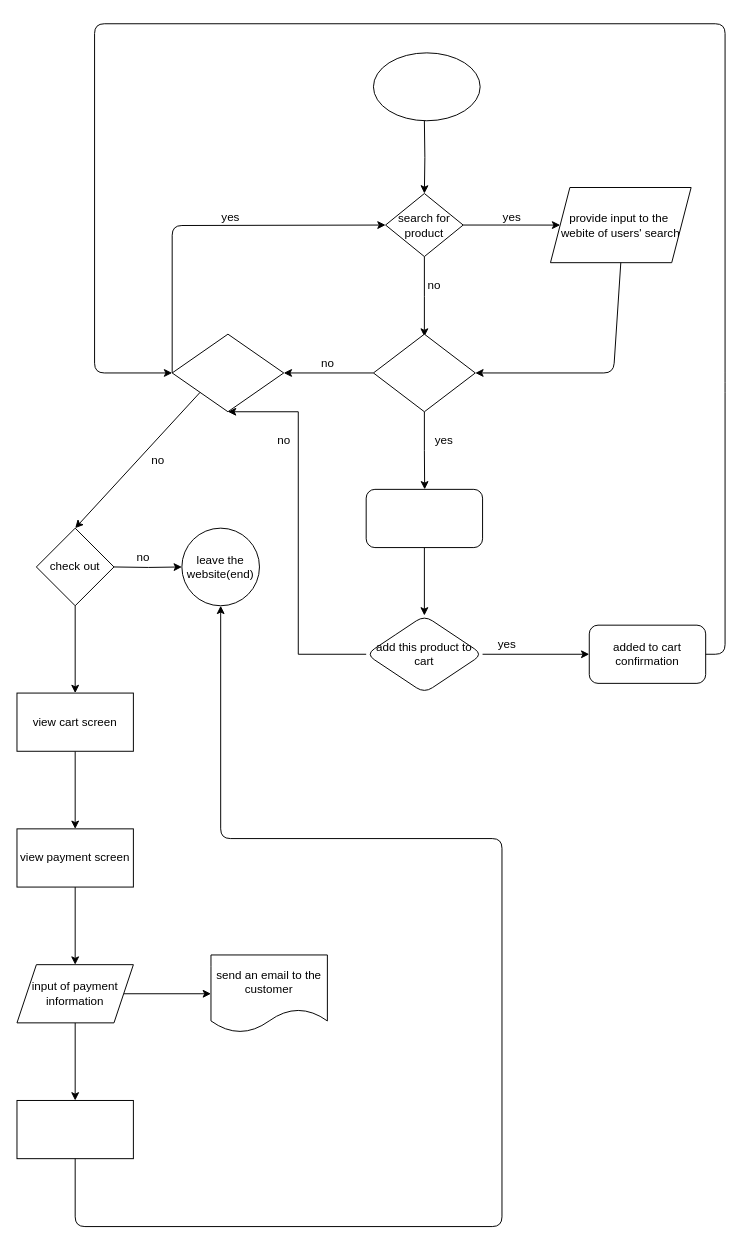
The diagram is 750 pixels wide and 1251 high, and some of its shapes have lost their labels. The centre of each missing label's shape, as x and y in pixels:
"continue shopping" belongs at point 227,372.
"open product's webpage" belongs at point 424,518.
"order comfirmation screen" belongs at point 74,1129.
"Start" belongs at point 426,86.
"veiw a specific product" belongs at point 423,372.
